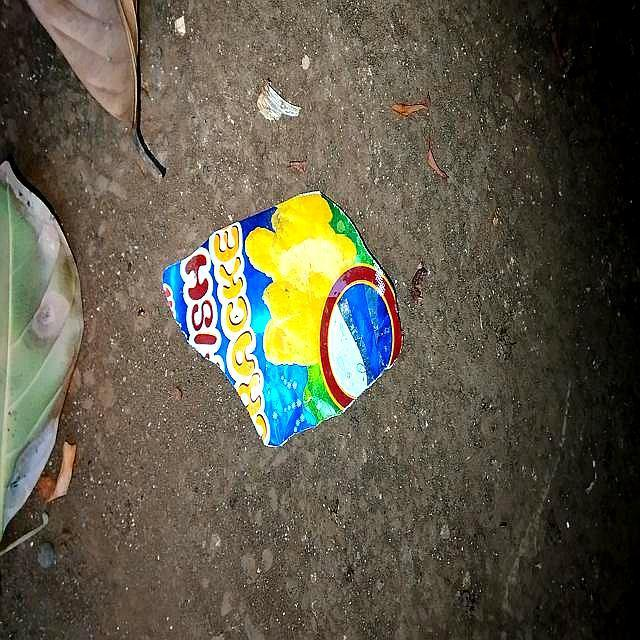Non-biodegradable: (160, 189, 405, 450)
